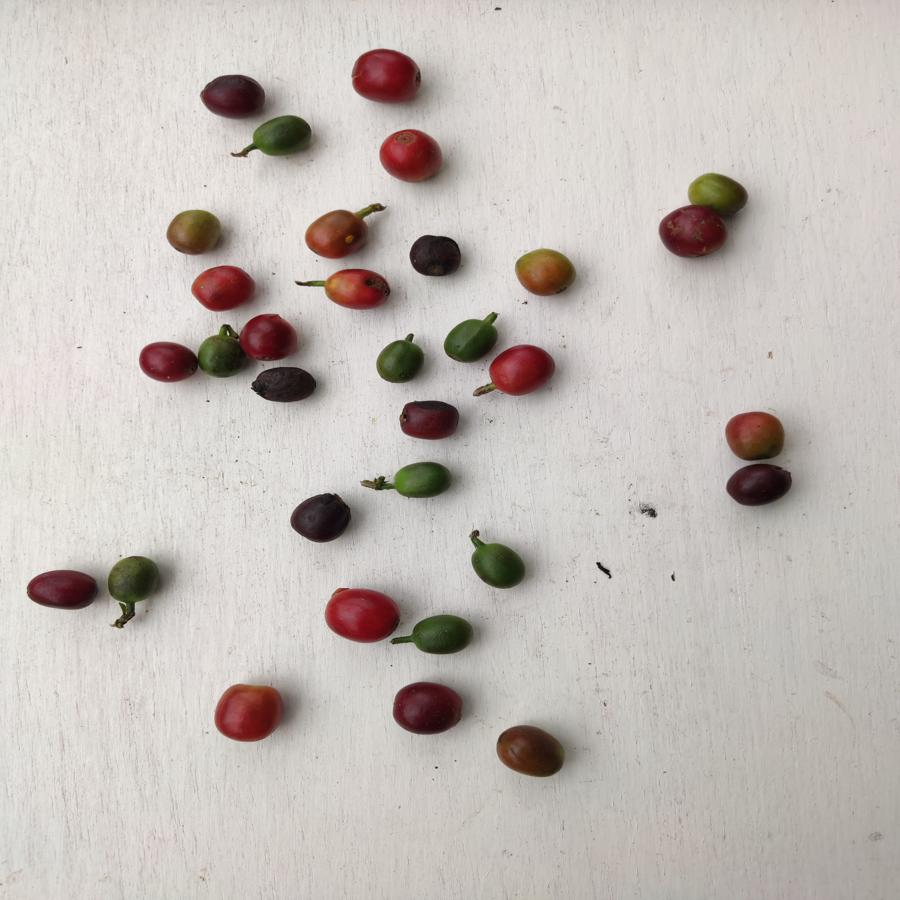Inmaduro: (105, 553, 164, 609), (469, 540, 529, 592), (411, 612, 476, 657), (389, 457, 454, 501), (196, 329, 246, 384), (253, 116, 312, 161), (377, 337, 424, 386), (444, 317, 493, 360)
Maduro: (349, 48, 428, 109), (211, 681, 284, 743), (323, 586, 401, 643), (489, 343, 562, 399), (377, 128, 447, 186), (189, 263, 258, 316), (327, 264, 393, 316)
Pinton: (722, 407, 793, 460), (304, 209, 369, 261), (515, 248, 576, 298), (163, 207, 223, 255), (686, 169, 751, 213)
Sobremaduro: (496, 726, 569, 785), (656, 207, 731, 264), (392, 683, 460, 737), (288, 491, 354, 544), (198, 73, 267, 121), (722, 464, 797, 508), (24, 569, 99, 611), (396, 397, 461, 440), (409, 231, 463, 280), (137, 342, 197, 385), (252, 366, 318, 403)
